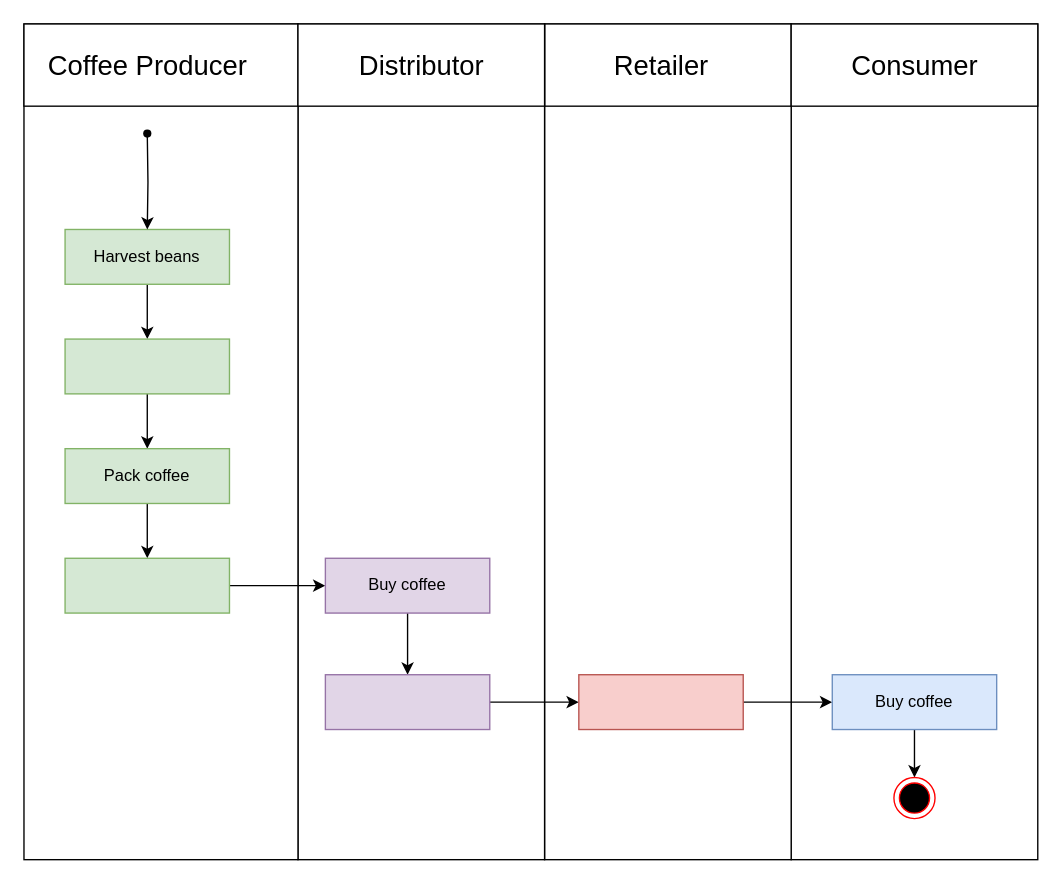
Image size: 1062x884. Some labels were removed from this diagram. Here are the shapes that lost their labels. From the top down, the centre of each, then its label:
At point 146,366: "Process beans (transform to coffee)".
At point 146,585: "Sell coffee".
At point 407,701: "Ship coffee".
At point 660,701: "Receive coffee".
